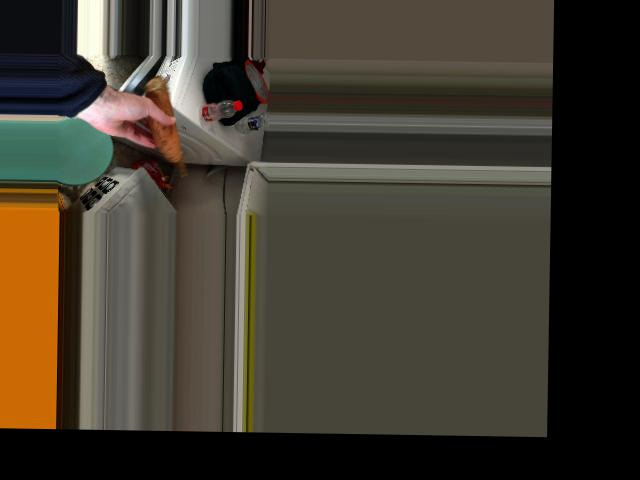sweet_potato: (140, 82, 192, 173)
